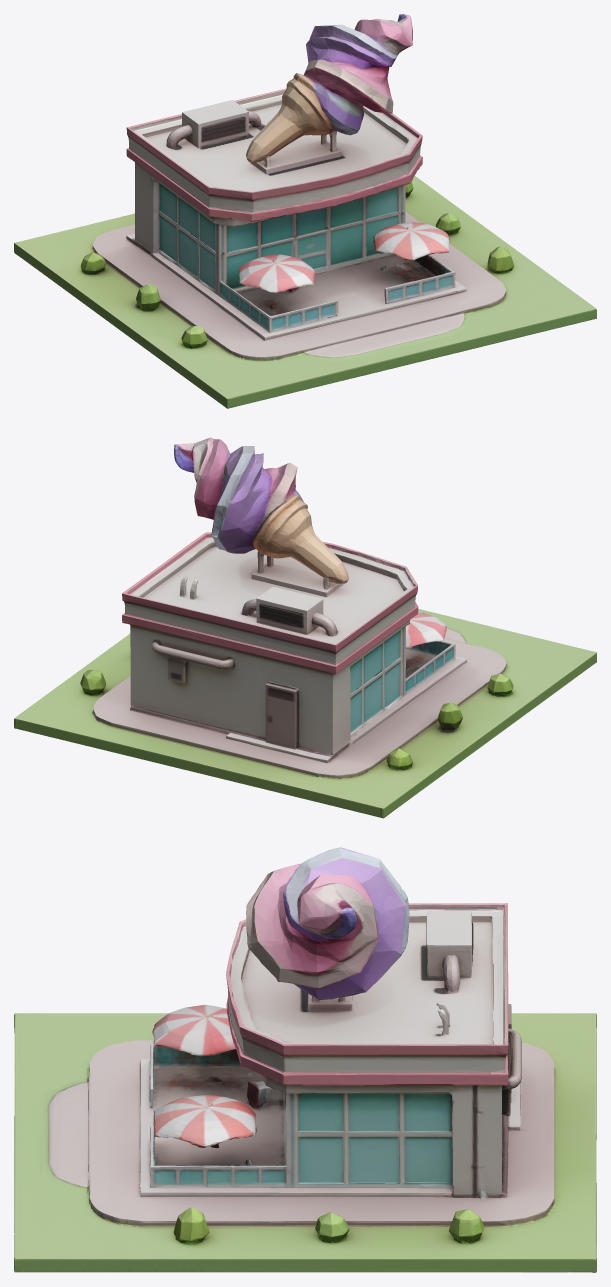
Rendered from PartObjaverseTiny_Seventeen.glb.
3 views of the same model, one above another, from view 1: azimuth 30°, elevation 25°; view 2: azimuth 150°, elevation 25°; view 3: azimuth 270°, elevation 25° (orthographic). The views are drawn at different scales.
Parts seen in each view (by area): view 1: world; view 2: world; view 3: world.
Boxes of the visible parts, left/top/right/bottom form: world: left=14, top=14, right=596, bottom=408; world: left=14, top=437, right=596, bottom=818; world: left=14, top=847, right=596, bottom=1272.
Bounding box in the file's own units: 1 × 0.6244 × 1.
1 material, 1 textured.
